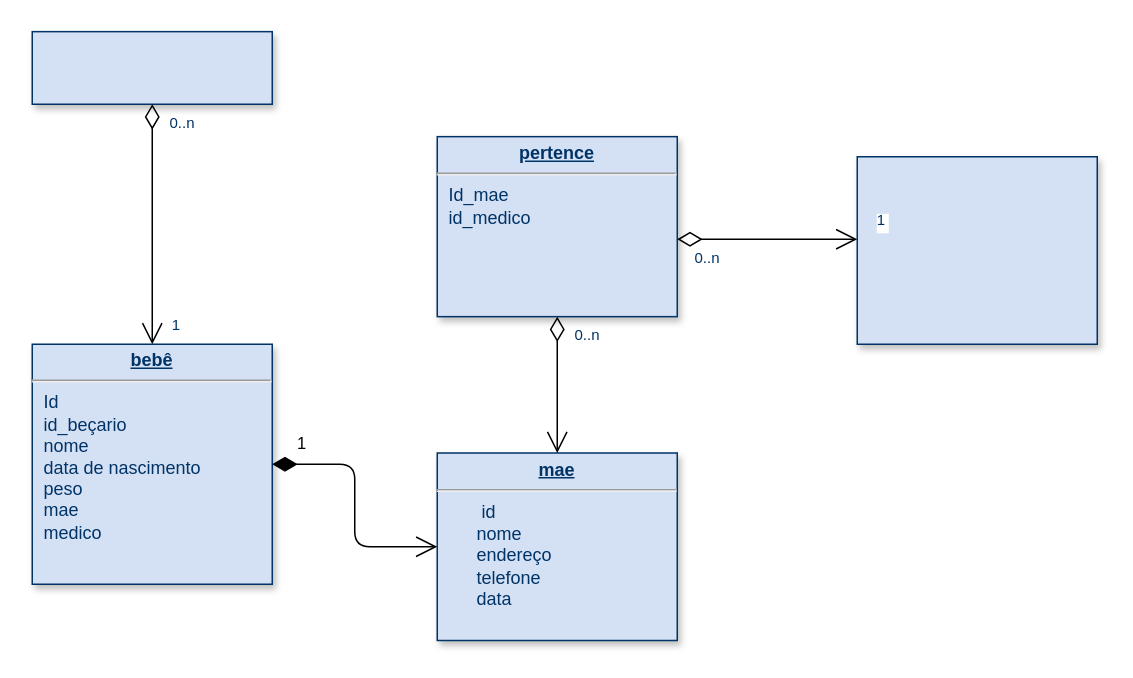
The diagram is 1133 pixels wide and 678 high, and some of its shapes have lost their labels. The shapes that lost their labels are listed below. From the top down, each one's centre as x and y in pixels, then its label:
At point 153,69: "beçario id".
At point 978,252: "medico id nome telefone especialidade".
